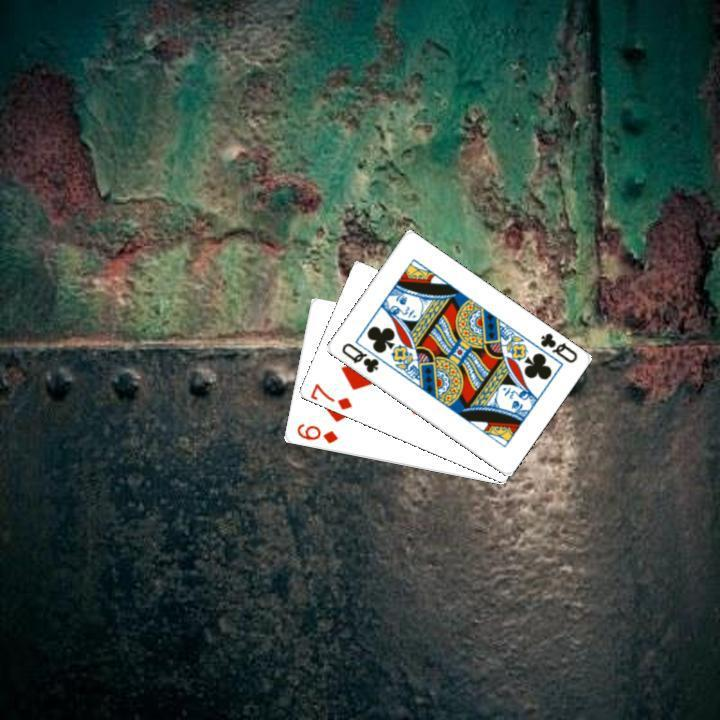6: (292, 419, 340, 446)
7: (306, 379, 354, 412)
Q: (337, 338, 381, 375), (535, 328, 579, 365)
